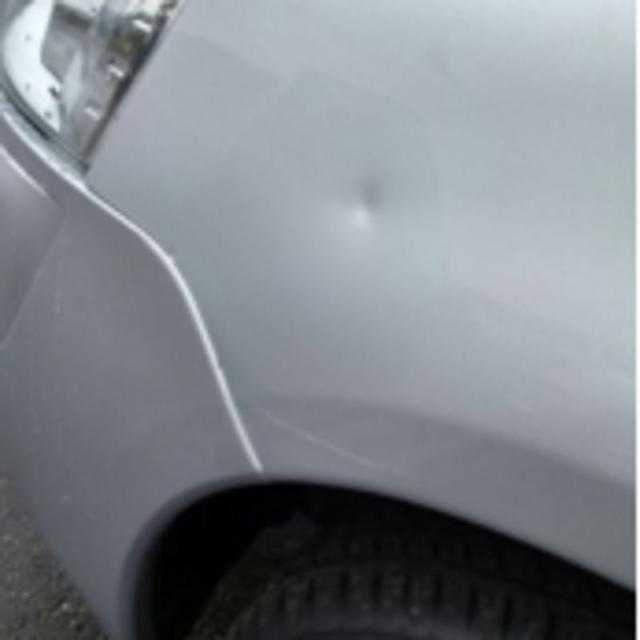Dent: (316, 150, 417, 254)
